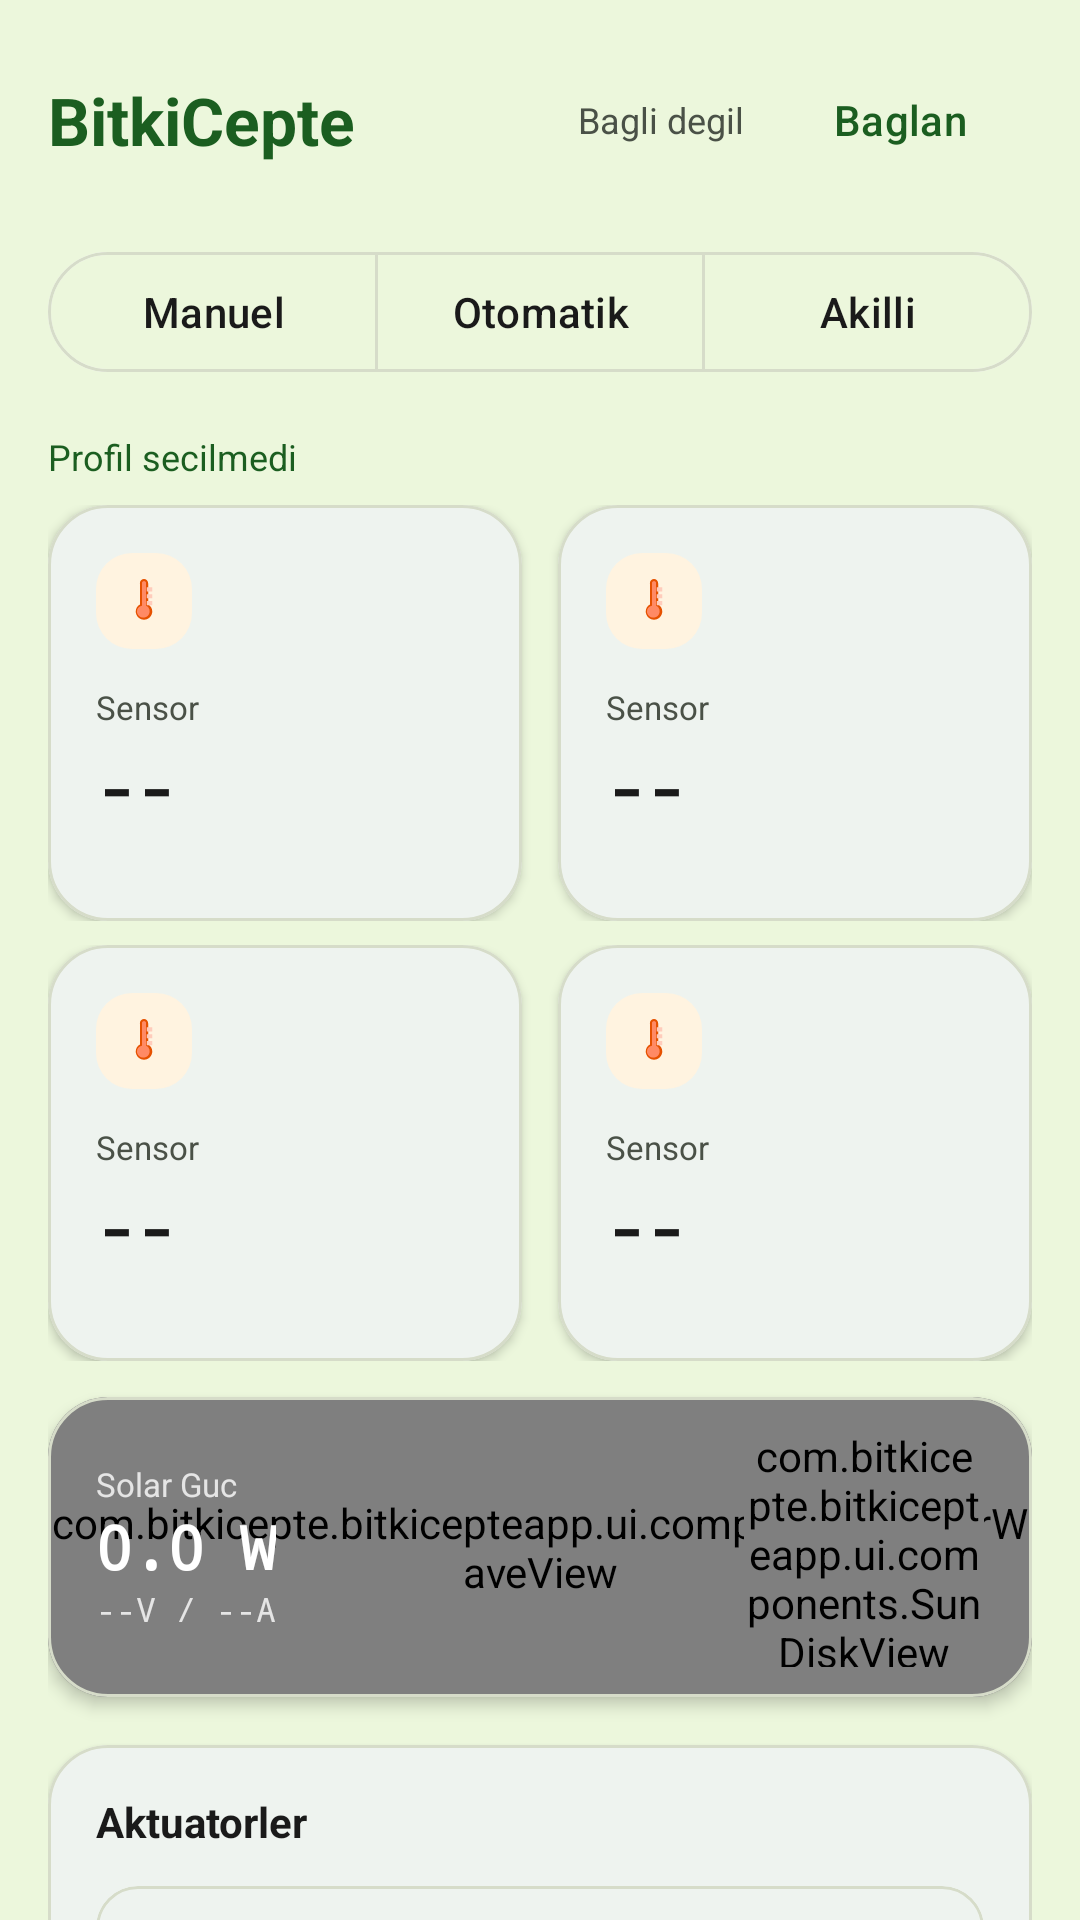

Screen size 1080 x 1920. Icon name, then its box in pixels as Rect(x1, y1, x2, y2):
thermometer: Rect(135, 579, 153, 620), Rect(645, 579, 663, 620), Rect(135, 1019, 153, 1060), Rect(645, 1019, 663, 1060)
